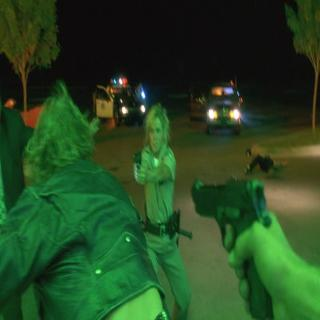gun: (189, 161, 275, 312), (129, 143, 146, 178)
